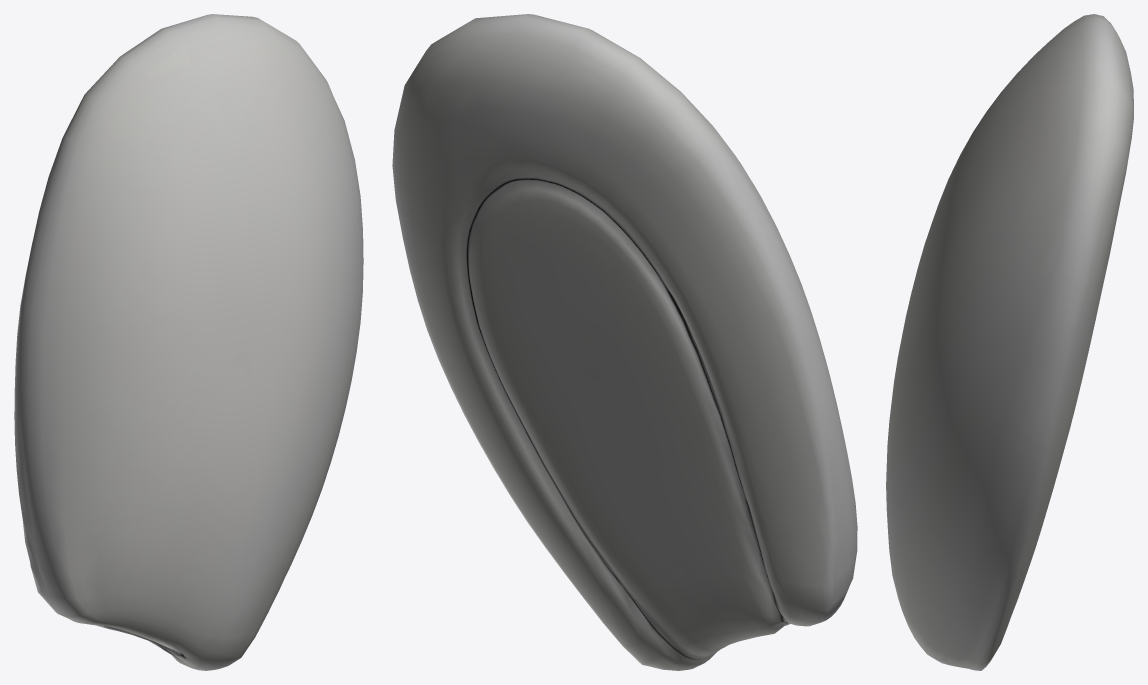
Rendered from chr_player_capsule01_bunny01_ear_top3d_v005.glb.
The picture shows the model from 3 angles, left to right: view 1: azimuth 30°, elevation 25°; view 2: azimuth 150°, elevation 25°; view 3: azimuth 270°, elevation 25°; orthographic projection. The views are drawn at different scales.
Parts seen in each view (by area): view 1: EXPORT_chr_player_capsule01_bunny01_ear_top3d_v005_00; view 2: EXPORT_chr_player_capsule01_bunny01_ear_top3d_v005_00; view 3: EXPORT_chr_player_capsule01_bunny01_ear_top3d_v005_00.
Boxes of the visible parts, box(x1,y1,x2,y2) form: EXPORT_chr_player_capsule01_bunny01_ear_top3d_v005_00: box(14, 14, 363, 670); EXPORT_chr_player_capsule01_bunny01_ear_top3d_v005_00: box(392, 14, 857, 670); EXPORT_chr_player_capsule01_bunny01_ear_top3d_v005_00: box(886, 14, 1133, 670).
Bounding box in the file's own units: 0.2278 × 0.3612 × 0.1235.
Materials: 1 (1 with a texture image).
